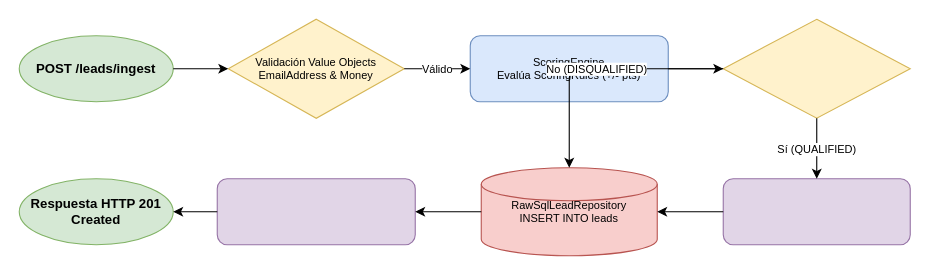
This 930x275 diagram has some shape labels left out. Here are the shapes that lost their labels. From the top down, the centre of each, then its label:
At point 816,68: "Score >= Qualified Threshold?".
At point 315,211: "HttpxWebhookDispatcher Firma HMAC SHA-256 POST".
At point 816,211: "RouterEngine Asigna Agente (LOWEST_LOAD)".
